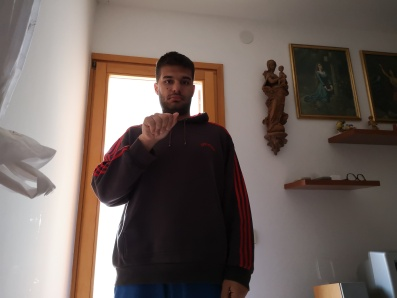A: (139, 110, 182, 142)
